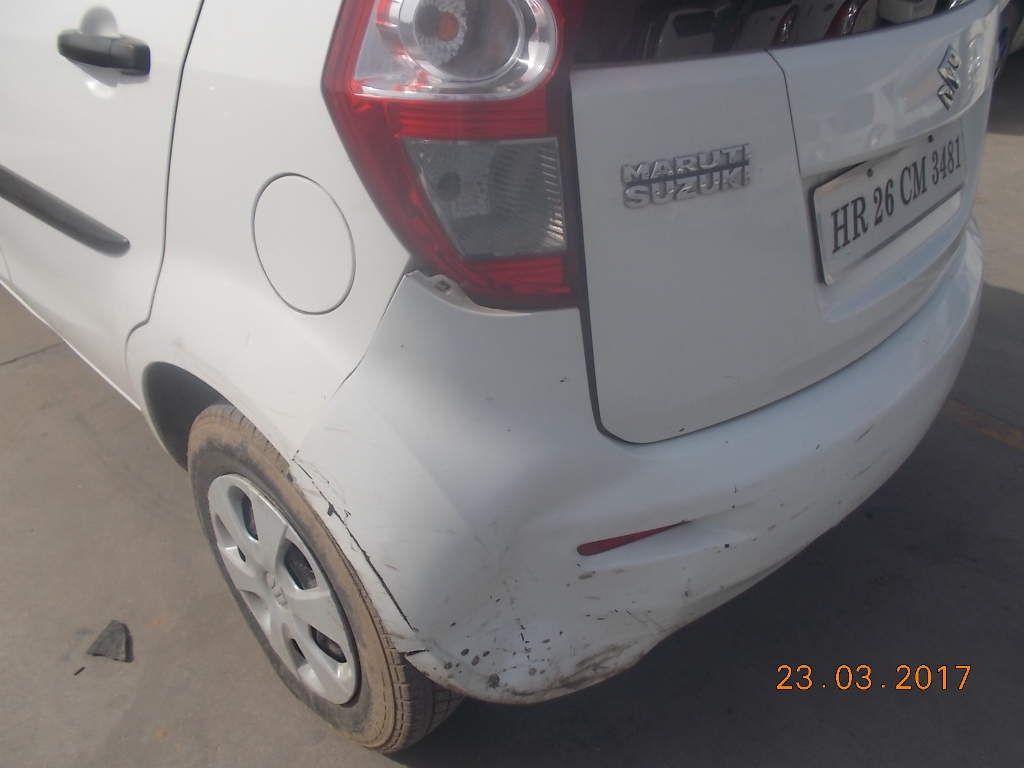Scratch_or_spot: (296, 453, 421, 635), (456, 622, 593, 690), (847, 416, 879, 452), (726, 481, 750, 508), (551, 370, 570, 394), (828, 495, 847, 516), (719, 536, 736, 559)
